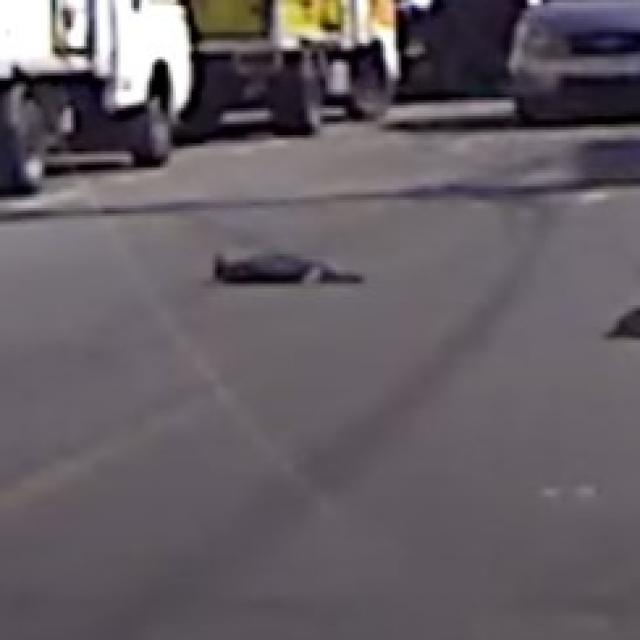cat: (203, 236, 374, 309)
